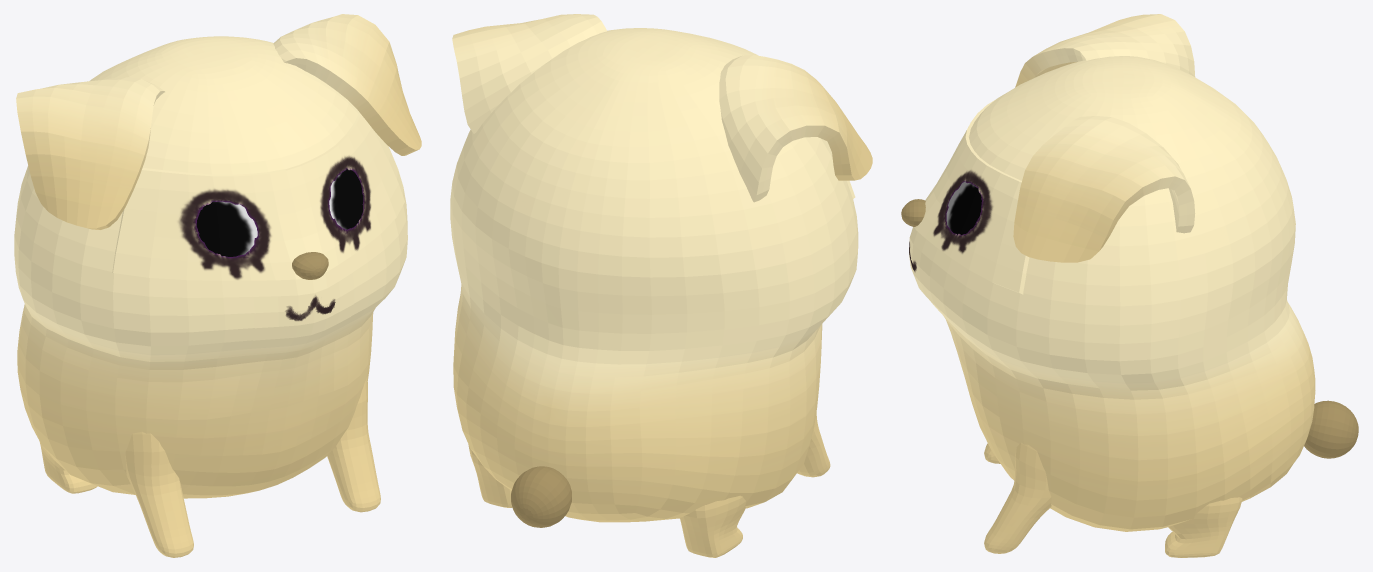
Rendered from jimmy.glb.
3 views of the same model, side by side, from view 1: azimuth 30°, elevation 25°; view 2: azimuth 150°, elevation 25°; view 3: azimuth 270°, elevation 25° (orthographic). The views are drawn at different scales.
Parts seen in each view (by area): view 1: body, ear, eye_right_0, eye_left_0, frontLeg, mouth, pupil_right_0, pupil_left_0, backLeg, nose; view 2: body, ear, backLeg, tail, frontLeg; view 3: body, ear, eye_left_0, frontLeg, backLeg, tail, pupil_left_0, mouth.
Boxes of the visible parts, x1,y1,x2,y2 form: body: [14, 36, 407, 498]; ear: [16, 14, 421, 229]; eye_right_0: [112, 168, 306, 280]; eye_left_0: [285, 112, 404, 272]; frontLeg: [125, 376, 380, 557]; mouth: [251, 257, 354, 340]; pupil_right_0: [196, 201, 257, 256]; pupil_left_0: [329, 169, 363, 229]; backLeg: [37, 437, 97, 493]; nose: [292, 252, 328, 279]; body: [450, 28, 858, 522]; ear: [452, 14, 872, 202]; backLeg: [468, 444, 745, 557]; tail: [511, 466, 571, 527]; frontLeg: [797, 412, 830, 477]; body: [929, 56, 1315, 531]; ear: [1013, 14, 1195, 262]; eye_left_0: [914, 137, 1029, 294]; frontLeg: [984, 442, 1051, 553]; backLeg: [1165, 497, 1242, 557]; tail: [1304, 400, 1358, 458]; pupil_left_0: [946, 181, 981, 234]; mouth: [909, 227, 936, 304].
Bounding box in the file's own units: 0.2028 × 0.2262 × 0.2196.
2 materials, 2 textured.
